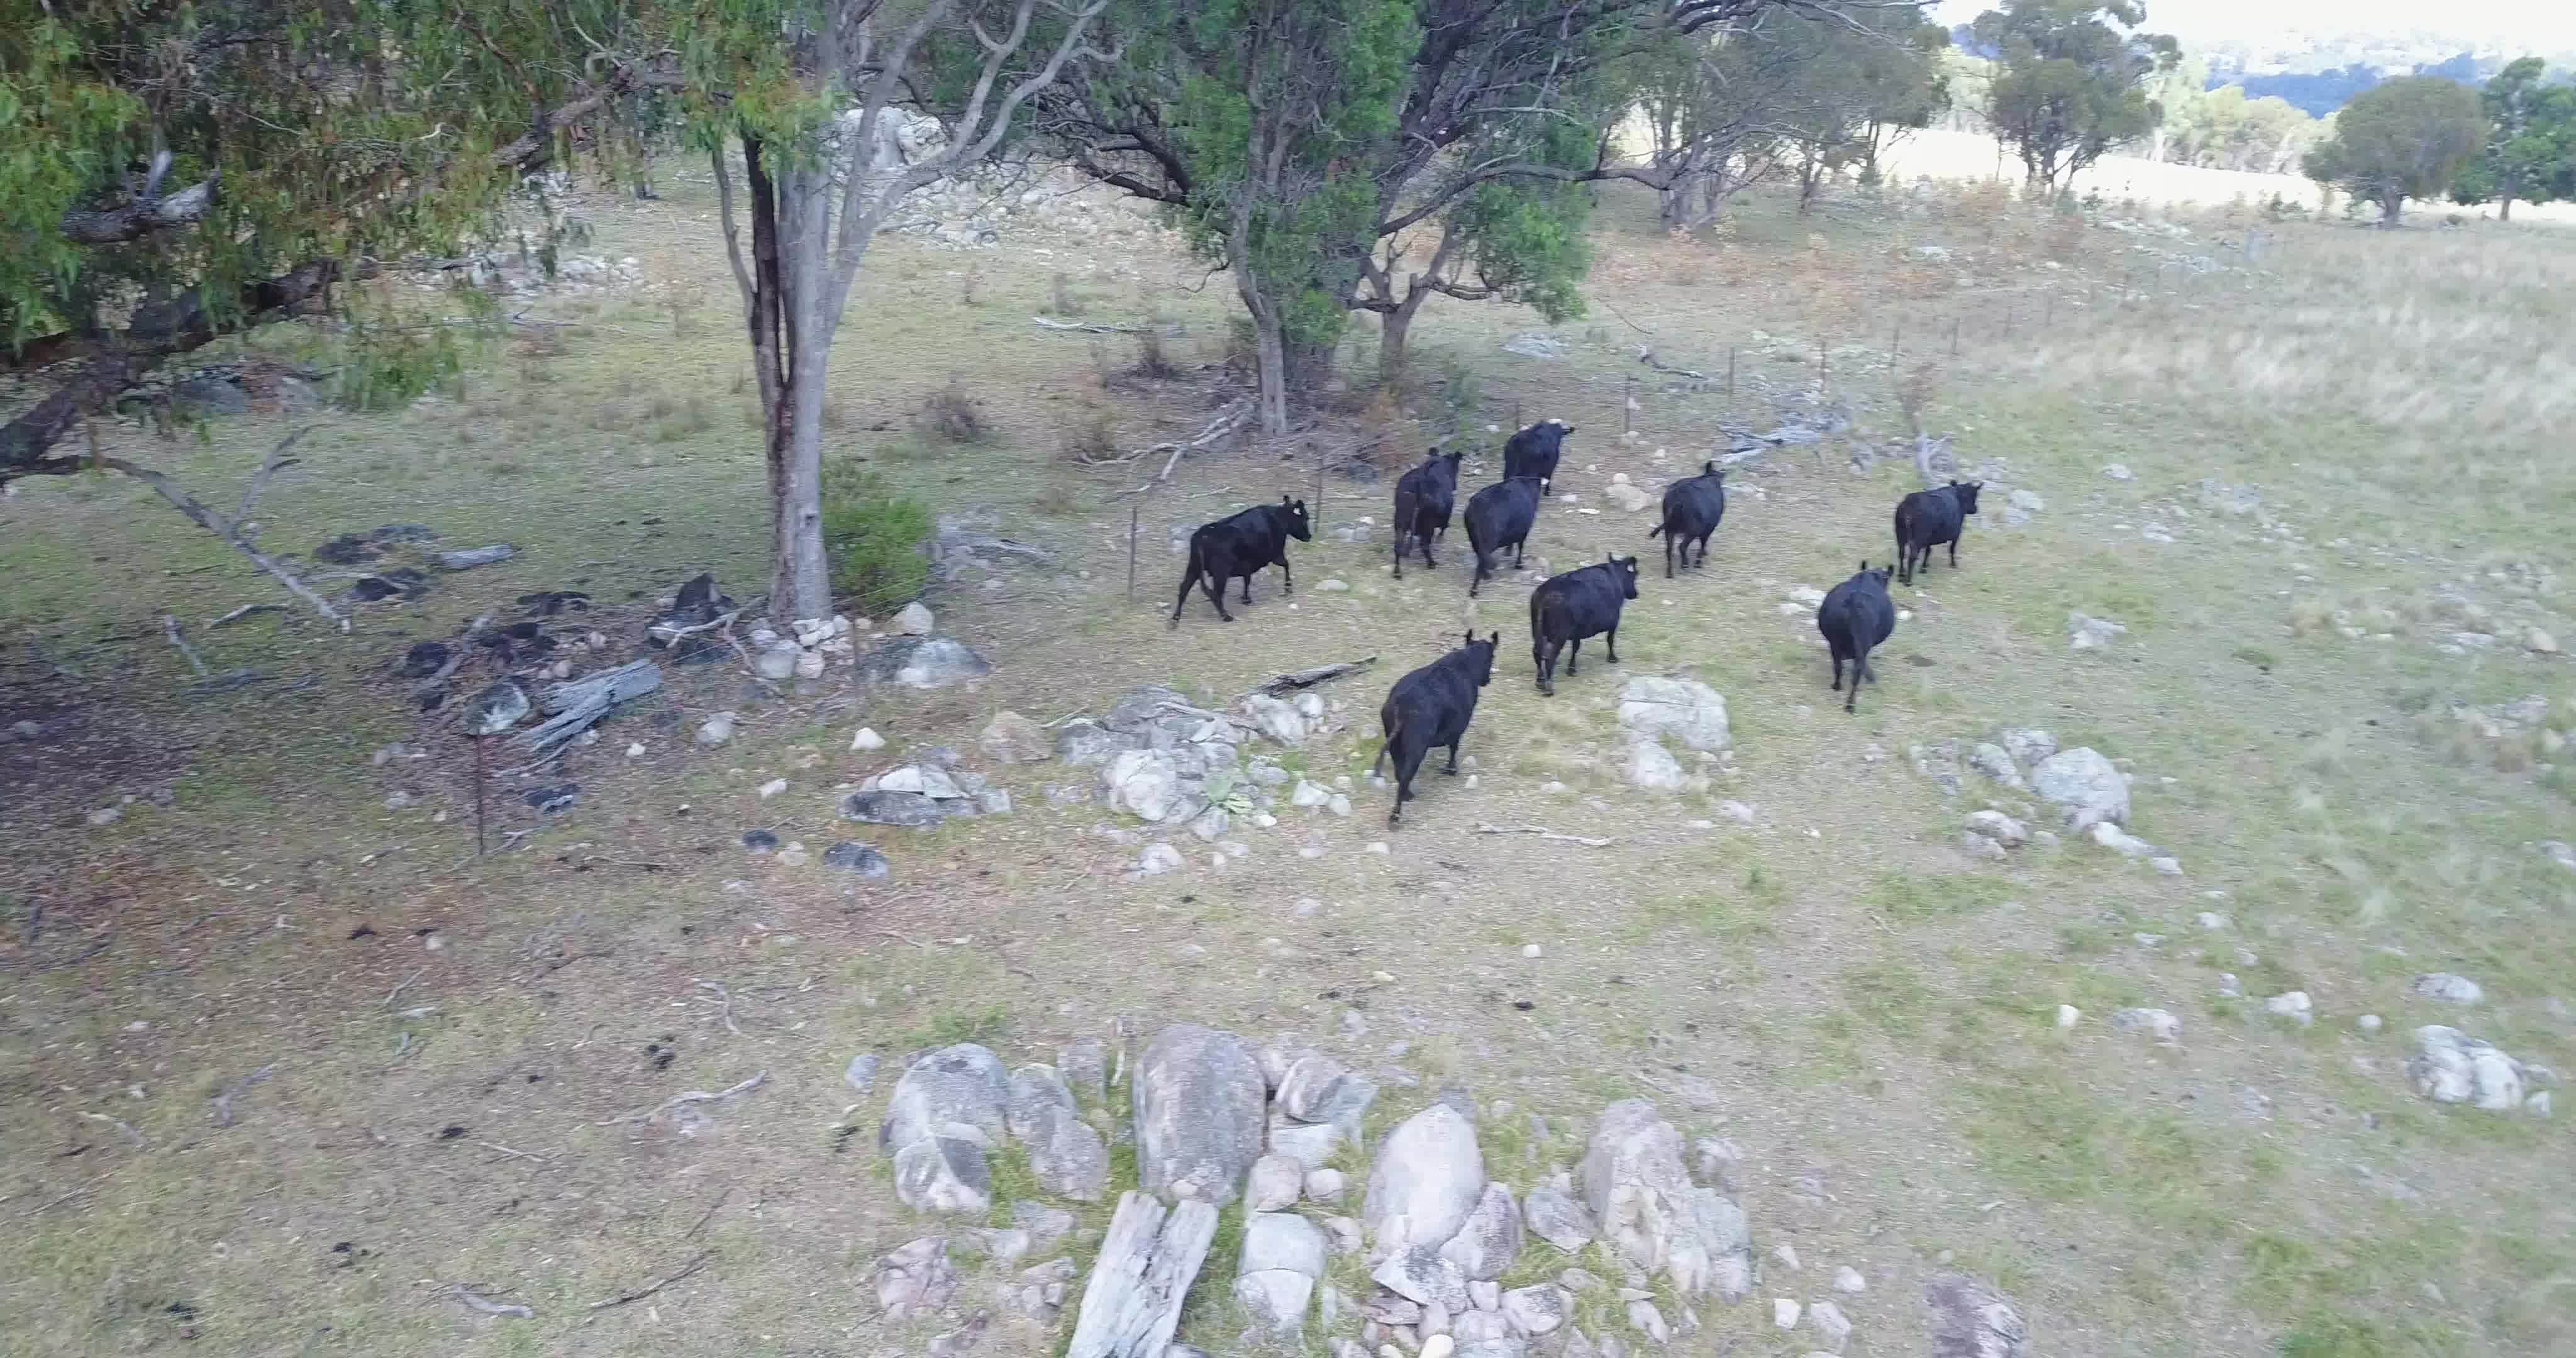cattle: (1378, 627, 1503, 831), (1170, 487, 1315, 627), (1527, 545, 1641, 699), (1821, 559, 1898, 717), (1377, 438, 1460, 583), (1893, 474, 1987, 583), (1656, 462, 1733, 578), (1501, 416, 1579, 487)
